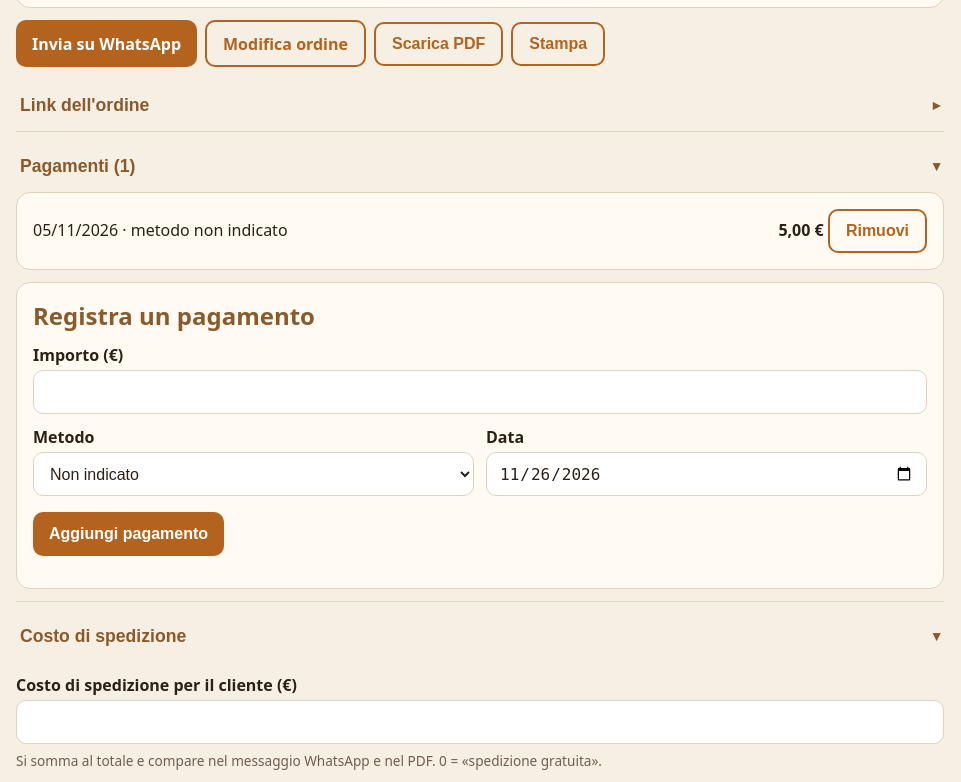
un secondo acconto porta lo stato da acconto a saldato
(page scrolled)
Step 1. Type "12,50" into the field labelled "Importo (€)" → (480, 392), box [33,370,927,414]
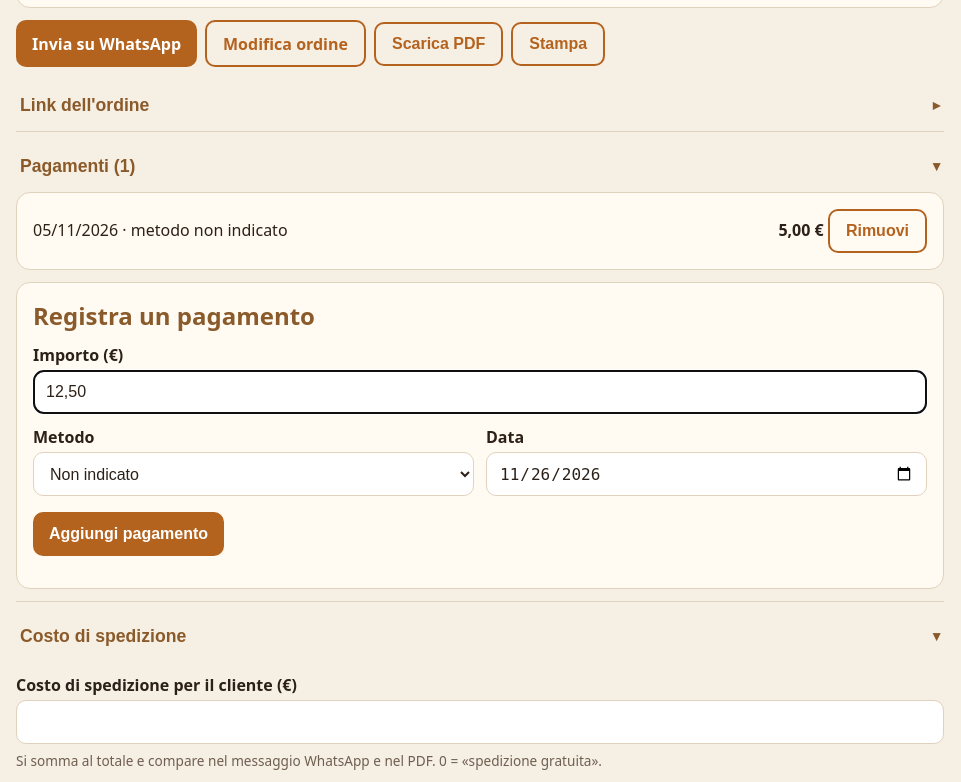
Step 2. Click the button "Aggiungi pagamento" → (129, 534), box [33,512,224,556]
(page scrolled)
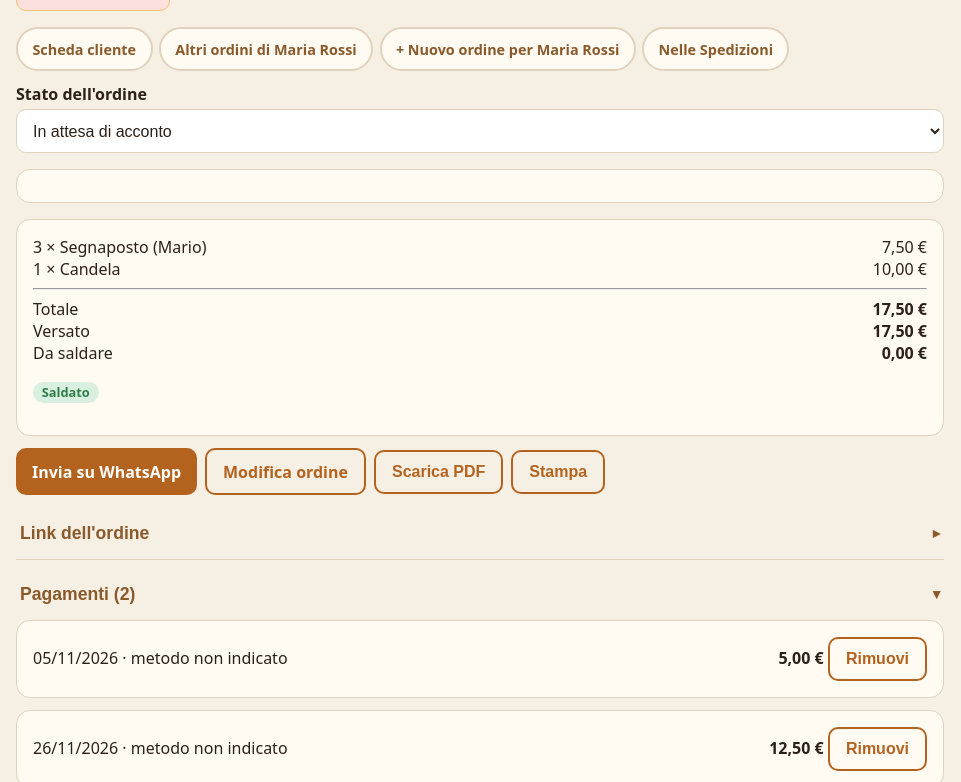
Now the text "Saldato" is shown, box [33,382,99,403]
